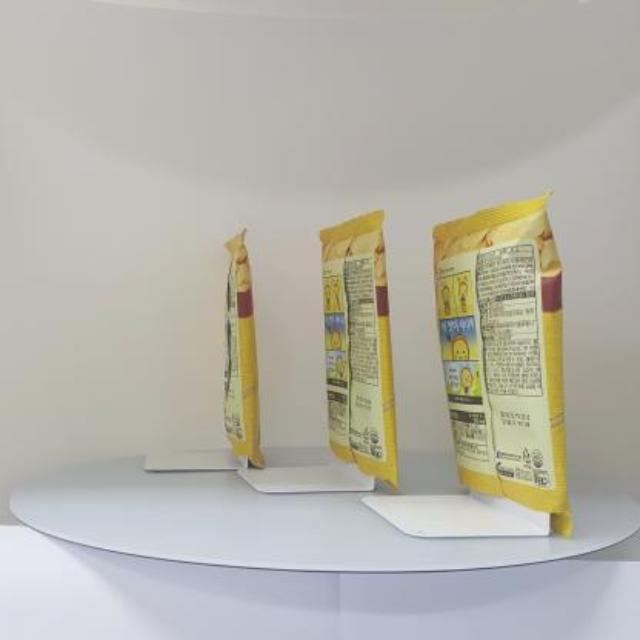snack_bag: (196, 185, 582, 558)
